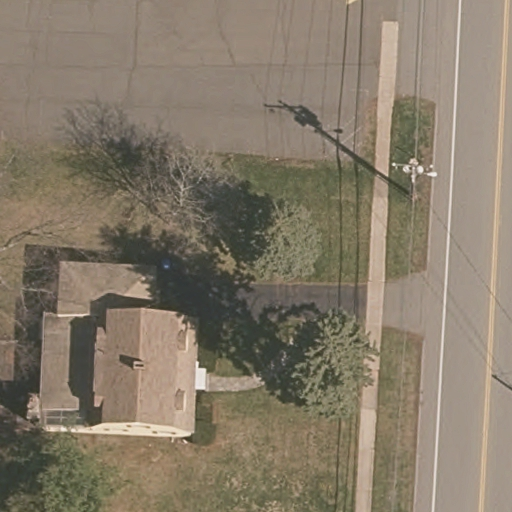DT: (375, 151, 444, 211)
